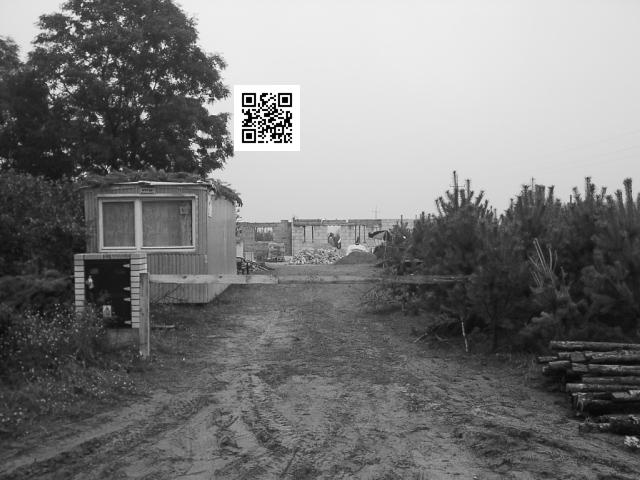qr_code: (235, 84, 300, 153)
